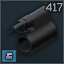HK417 low profile gas block: (0, 0, 64, 64)
